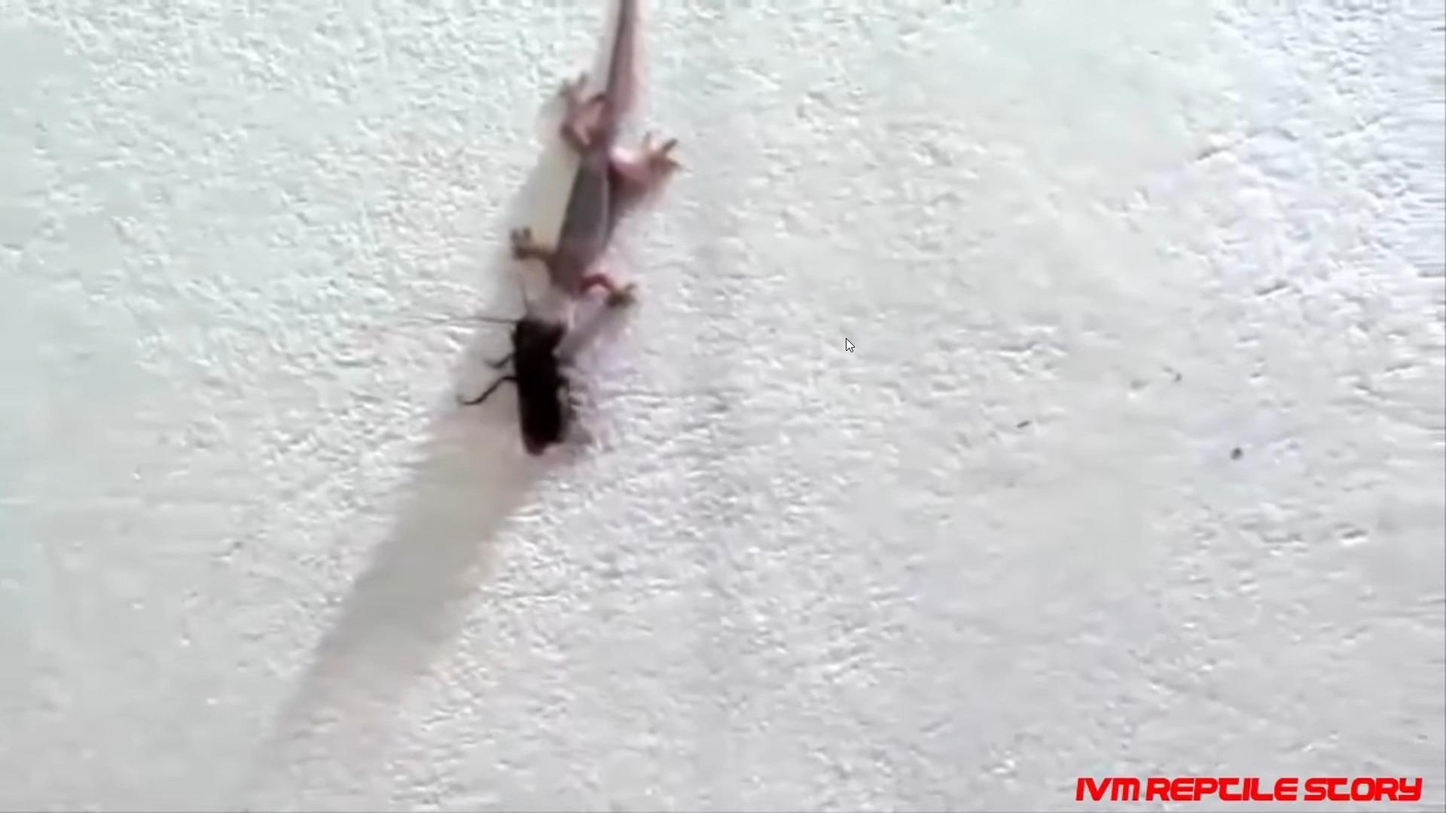cockroach: (500, 317, 590, 460)
lizard: (498, 43, 678, 328)
